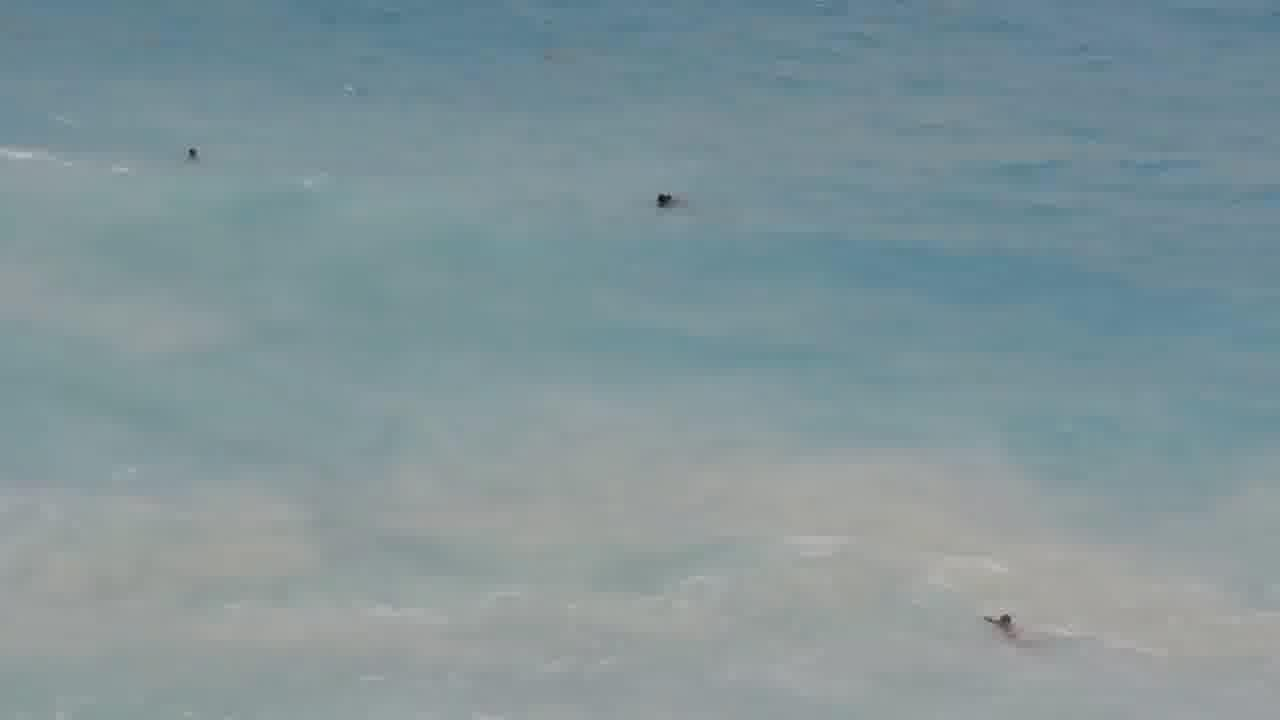human: (645, 177, 693, 224), (982, 595, 1032, 633), (167, 139, 226, 169)
